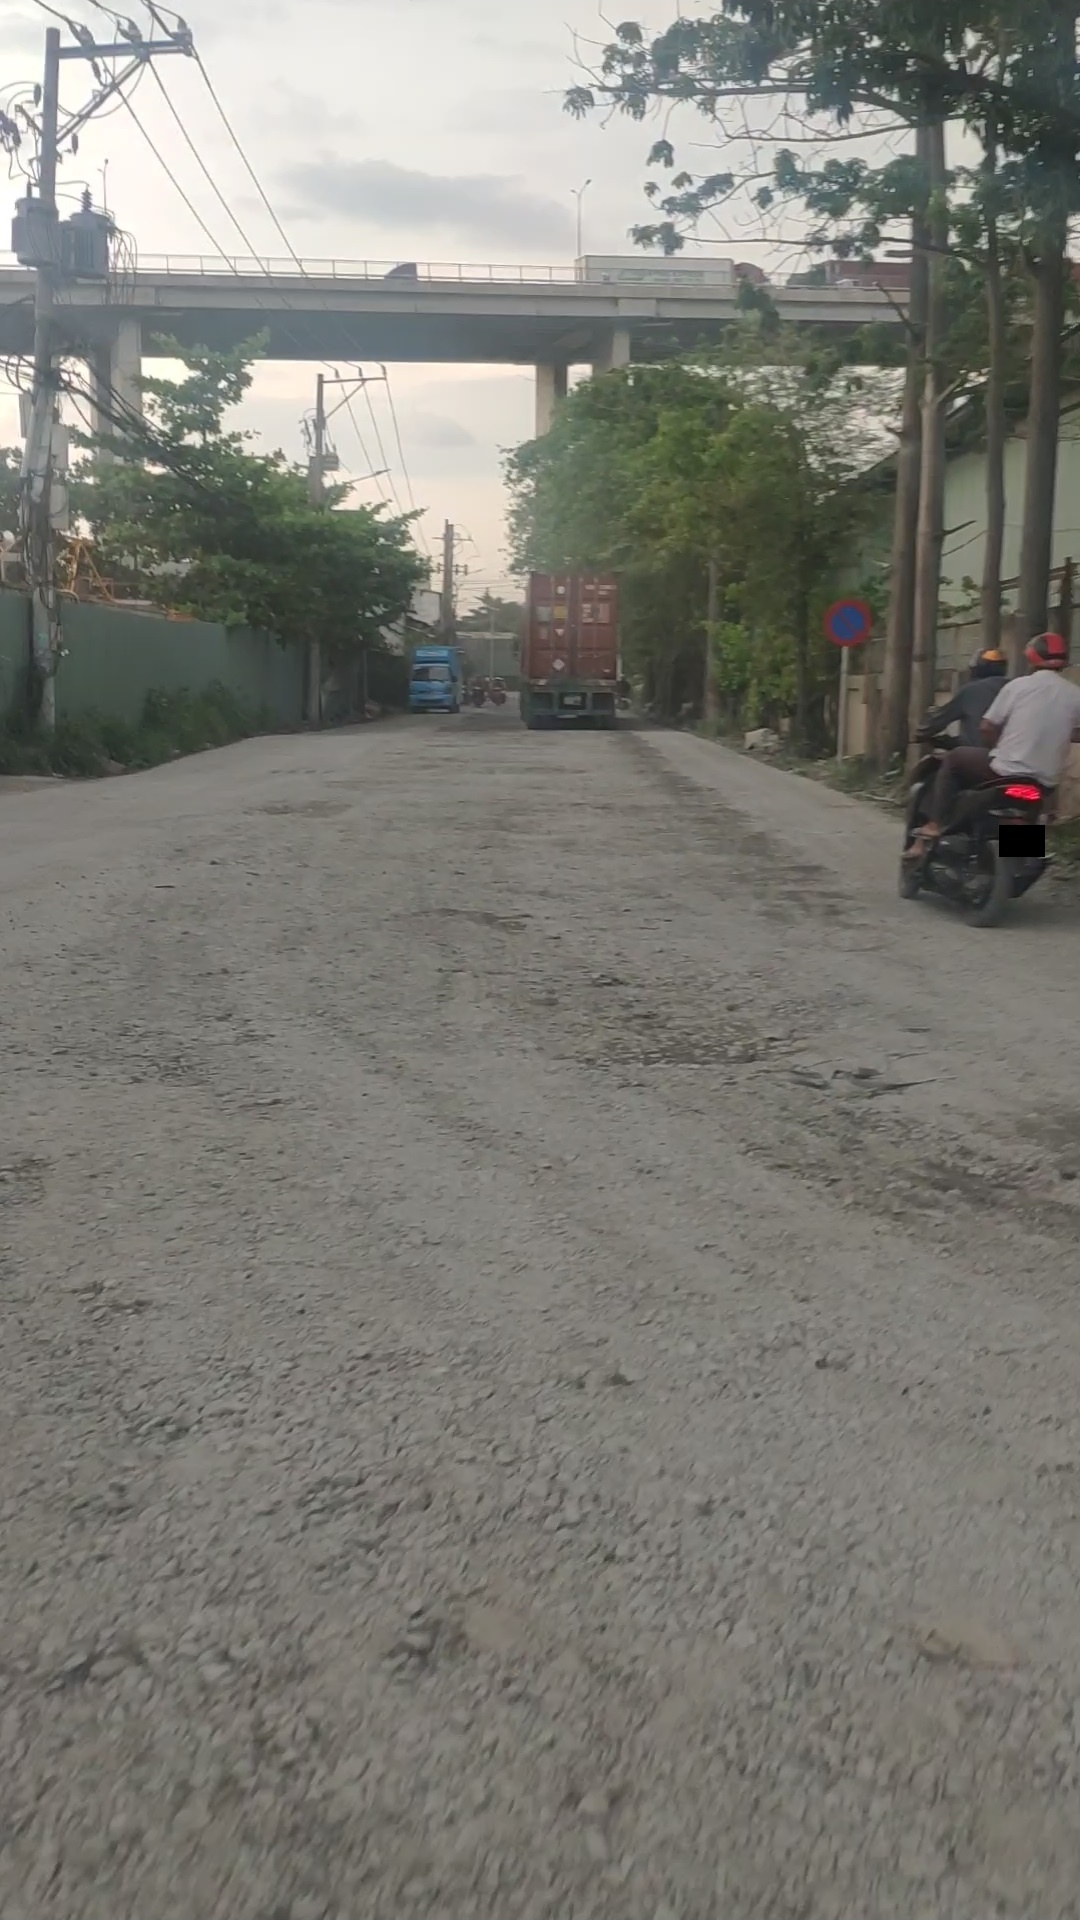hole: (564, 985, 819, 1079), (233, 795, 356, 822), (458, 762, 589, 779)
